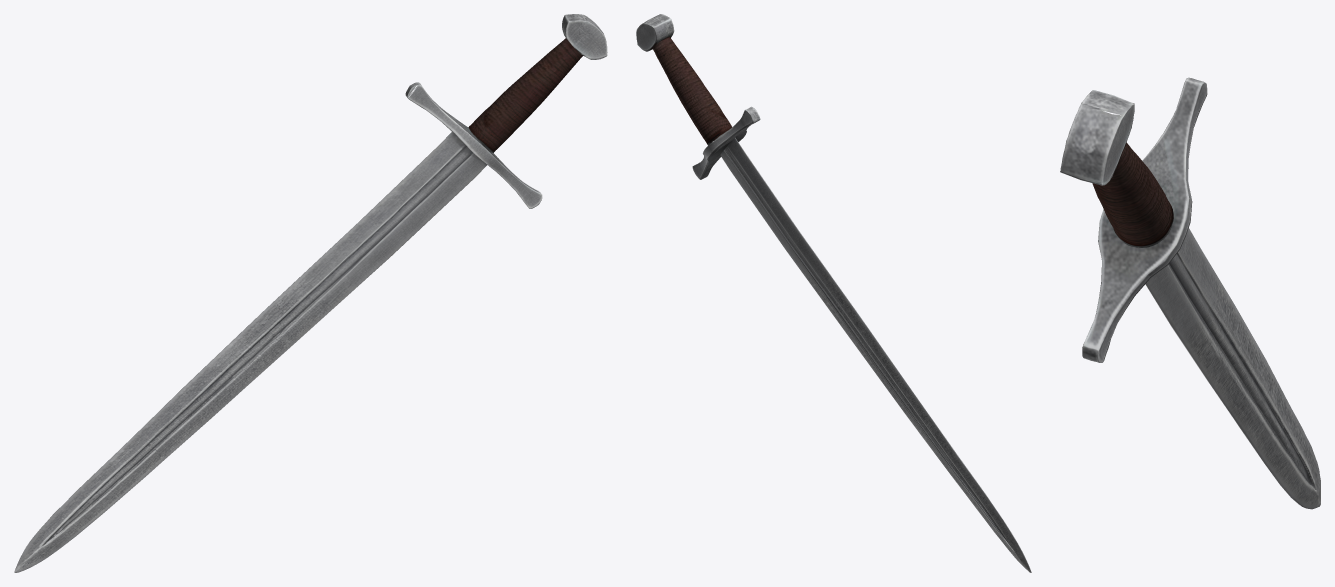
The model's file is sword.glb.
3 renders of one model, left to right at view 1: azimuth 30°, elevation 25°; view 2: azimuth 150°, elevation 25°; view 3: azimuth 270°, elevation 25°, orthographic. The views are drawn at different scales.
Parts seen in each view (by area): view 1: a46f8376_2469_4719_be69_20ceafe9d44e; view 2: a46f8376_2469_4719_be69_20ceafe9d44e; view 3: a46f8376_2469_4719_be69_20ceafe9d44e.
Part boxes in pixels (x1,y1,x2,y2): a46f8376_2469_4719_be69_20ceafe9d44e: (14,14,607,572); a46f8376_2469_4719_be69_20ceafe9d44e: (636,14,1031,572); a46f8376_2469_4719_be69_20ceafe9d44e: (1060,77,1320,509).
Bounding box in the file's own units: 0.9995 × 0.8755 × 0.2515.
Materials: 1 (1 with a texture image).
